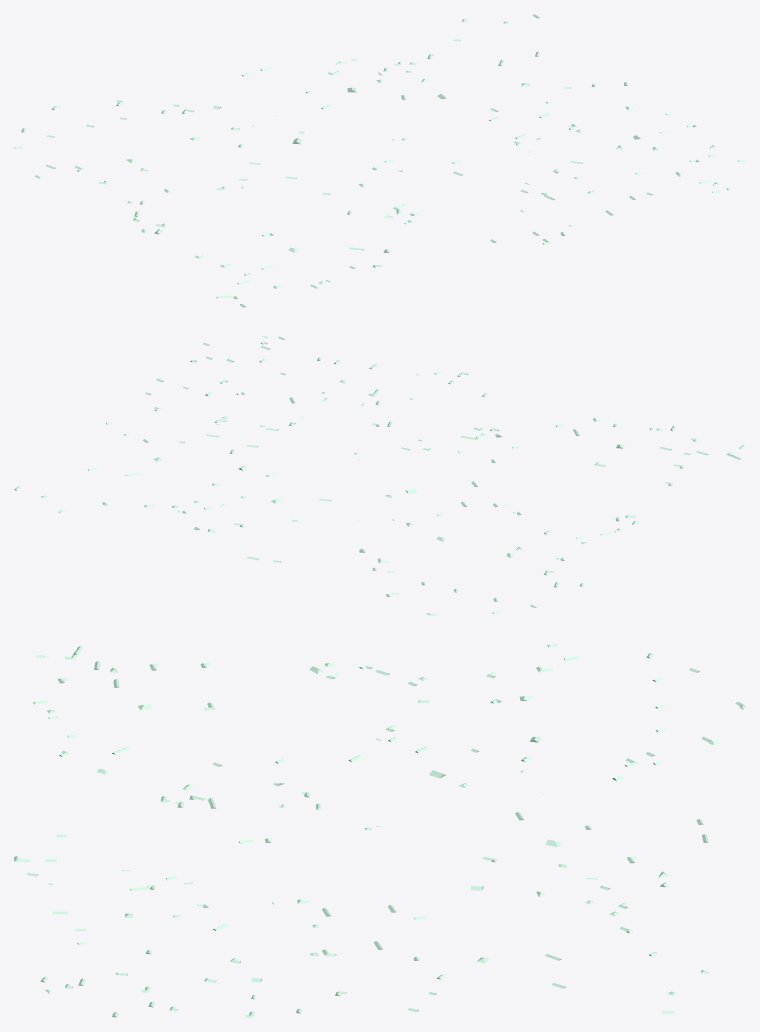
The model's file is FaitageArdoise_1.obj.
3 views of the same model, one above another, from view 1: azimuth 30°, elevation 25°; view 2: azimuth 150°, elevation 25°; view 3: azimuth 270°, elevation 25° (orthographic). The views are drawn at different scales.
Parts seen in each view (by area): view 1: FaitageArdoise_1; view 2: FaitageArdoise_1; view 3: FaitageArdoise_1.
Boxes of the visible parts, x1=… form: FaitageArdoise_1: x1=14, y1=14, x2=745, y2=307; FaitageArdoise_1: x1=14, y1=336, x2=745, y2=615; FaitageArdoise_1: x1=14, y1=644, x2=745, y2=1017.
Size of the model in its own units: 2436 by 73.29 by 2028.
